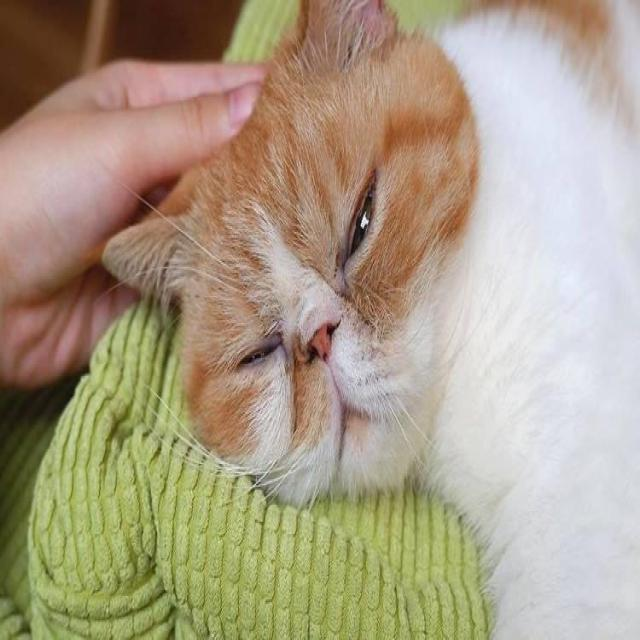Cat: (97, 1, 490, 524)
